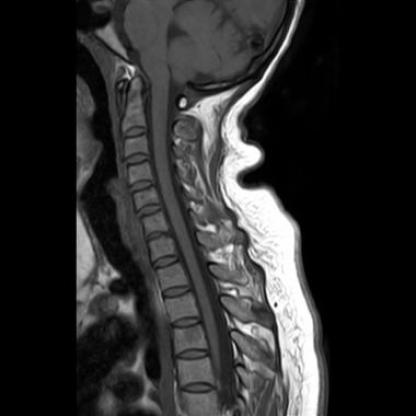Degenerative Disc Diseaserotation: (145, 226, 174, 241)
